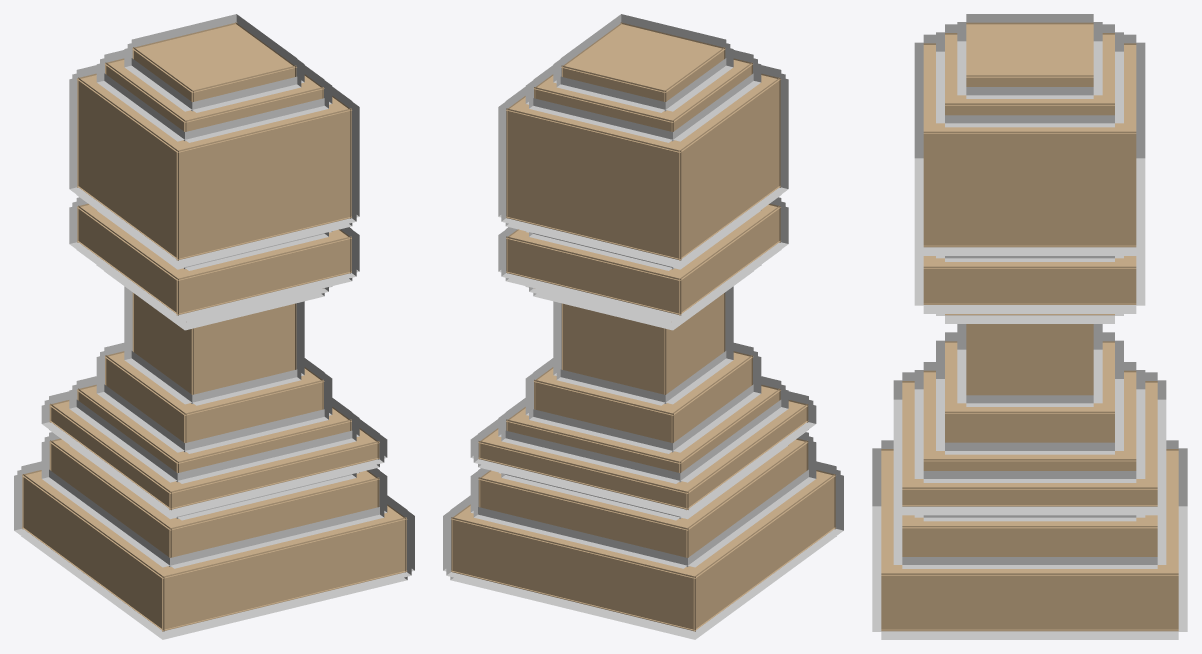
File: tan-pawn.glb
The picture shows the model from 3 angles, left to right: view 1: azimuth 30°, elevation 25°; view 2: azimuth 150°, elevation 25°; view 3: azimuth 270°, elevation 25°; orthographic projection. The views are drawn at different scales.
Visible parts, largest first — view 1: chess-pawn-tan_model; view 2: chess-pawn-tan_model; view 3: chess-pawn-tan_model.
Boxes of the visible parts, x1,y1,x2,y2 form: chess-pawn-tan_model: (14,14,414,639); chess-pawn-tan_model: (443,14,843,639); chess-pawn-tan_model: (872,14,1187,639).
Bounding box in the file's own units: 1.48 × 2.78 × 1.48.
2 materials, 1 textured.
